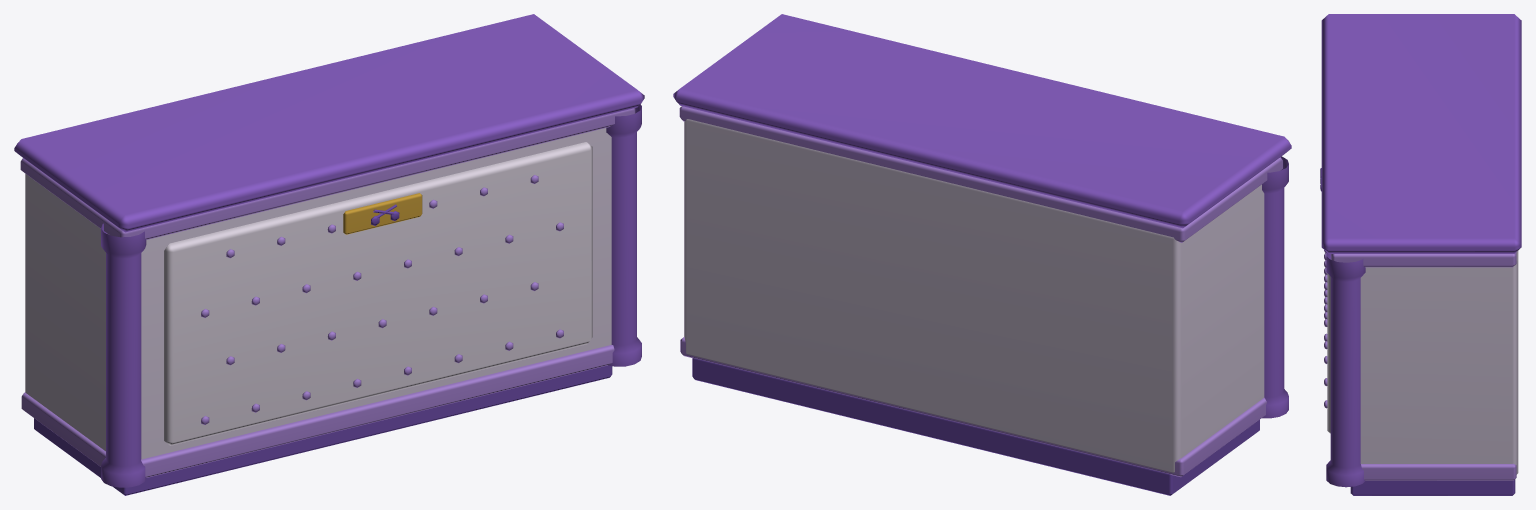
The model's file is furn_salon_desk.glb.
3 renders of one model, left to right at view 1: azimuth 30°, elevation 25°; view 2: azimuth 150°, elevation 25°; view 3: azimuth 270°, elevation 25°, orthographic. The views are drawn at different scales.
Parts seen in each view (by area): view 1: furn_salon_desk_main; view 2: furn_salon_desk_main; view 3: furn_salon_desk_main.
Part boxes in pixels (box(x1,y1,x2,y2)): furn_salon_desk_main: box(14, 14, 644, 495); furn_salon_desk_main: box(673, 14, 1291, 495); furn_salon_desk_main: box(1320, 14, 1521, 495).
Size of the model in its own units: 1.9 by 1 by 0.6911.
